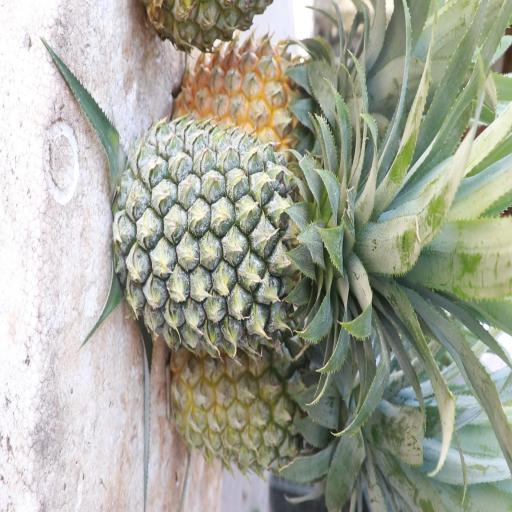------------------------------: (170, 331, 359, 474)
Pineapple - v8 v1: (178, 22, 359, 146)
